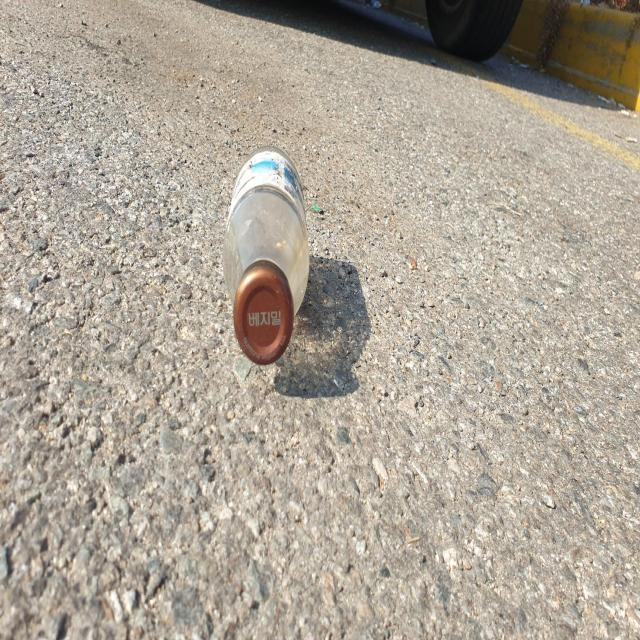glass: (223, 145, 309, 364)
